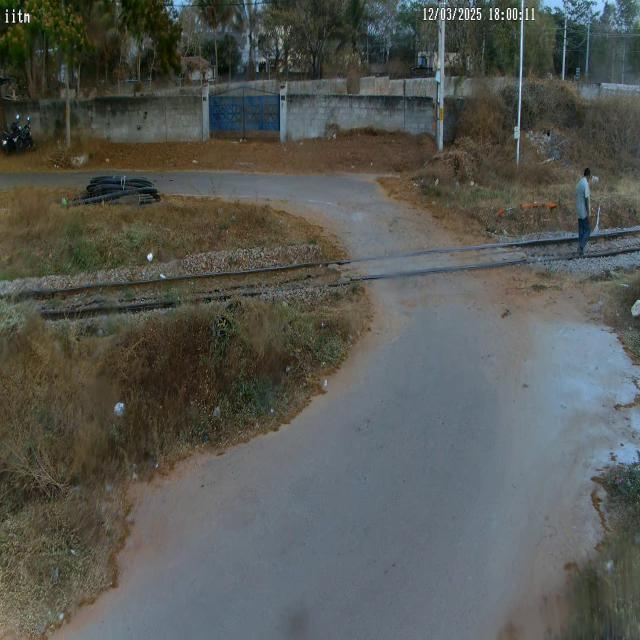objects: (564, 159, 599, 268)
